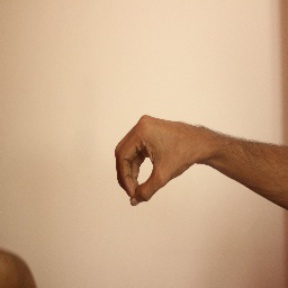O: (114, 111, 196, 206)
